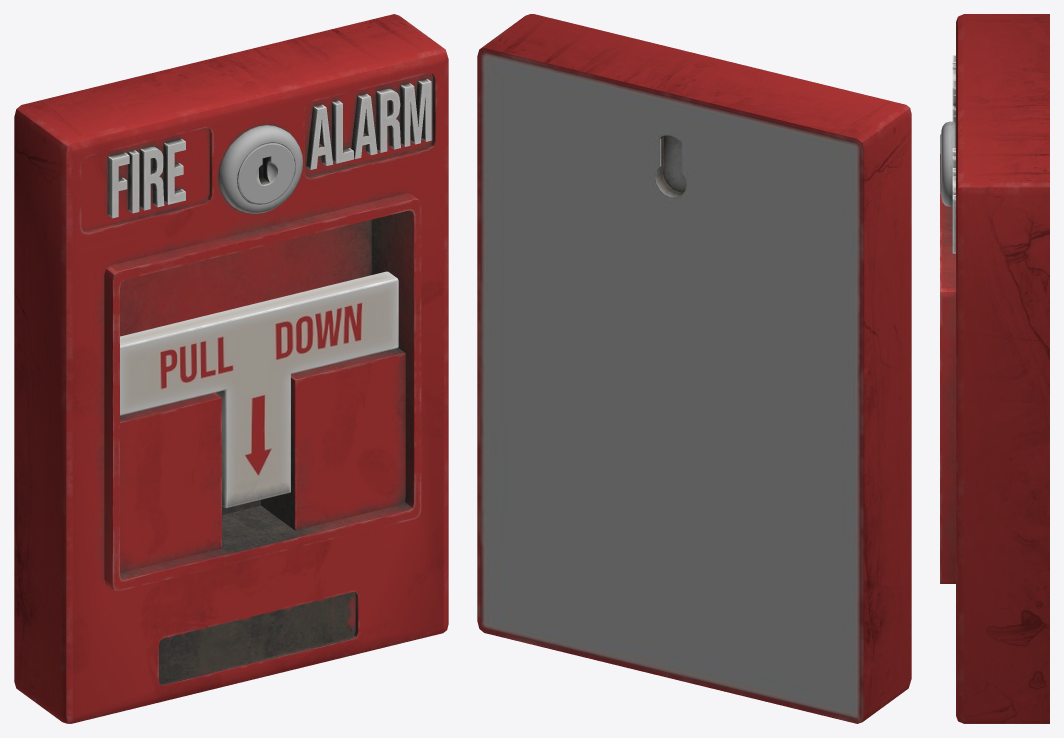
The model's file is FireAlarmCallPoint.obj.
3 views of the same model, side by side, from view 1: azimuth 30°, elevation 25°; view 2: azimuth 150°, elevation 25°; view 3: azimuth 270°, elevation 25° (orthographic). The views are drawn at different scales.
Visible parts, largest first — view 1: CallPoint; view 2: CallPoint; view 3: CallPoint.
Part boxes in pixels (left/top/right/bottom): CallPoint: left=14, top=14, right=448, bottom=723; CallPoint: left=477, top=14, right=911, bottom=723; CallPoint: left=940, top=14, right=1049, bottom=723.
Size of the model in its own units: 0.0994 by 0.1436 by 0.0264.
1 material, 1 textured.
